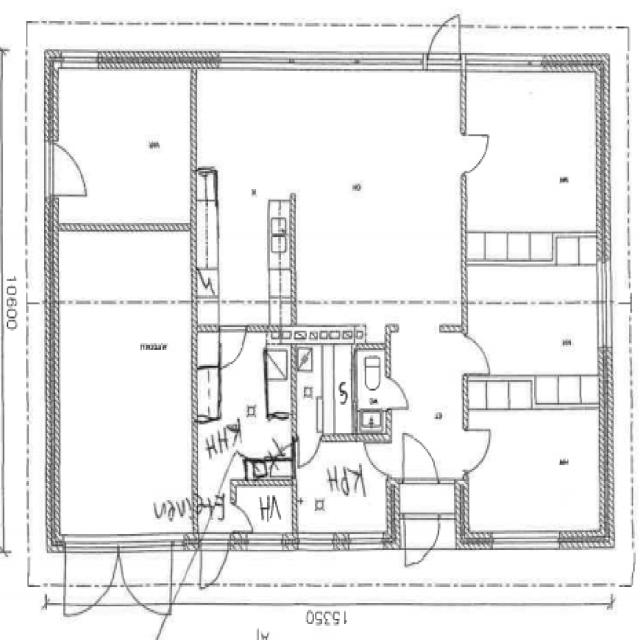door: (49, 70, 196, 227), (118, 548, 175, 622), (62, 548, 118, 622), (47, 142, 91, 200), (423, 14, 465, 72), (401, 511, 443, 568), (399, 430, 440, 486), (198, 533, 230, 591), (459, 332, 495, 378), (462, 426, 494, 474), (216, 326, 248, 372), (460, 131, 493, 174), (362, 436, 392, 476), (381, 376, 411, 412), (294, 435, 322, 470)
window: (590, 248, 618, 358), (487, 527, 562, 556), (295, 530, 339, 556), (243, 530, 287, 556), (344, 530, 387, 556), (60, 49, 101, 71)
zone: (197, 59, 460, 326), (53, 226, 195, 545), (464, 260, 610, 532), (463, 69, 602, 259), (50, 70, 196, 226), (194, 340, 296, 484), (388, 331, 468, 479), (294, 437, 398, 546), (293, 341, 357, 444), (226, 468, 296, 540), (354, 344, 391, 440)
